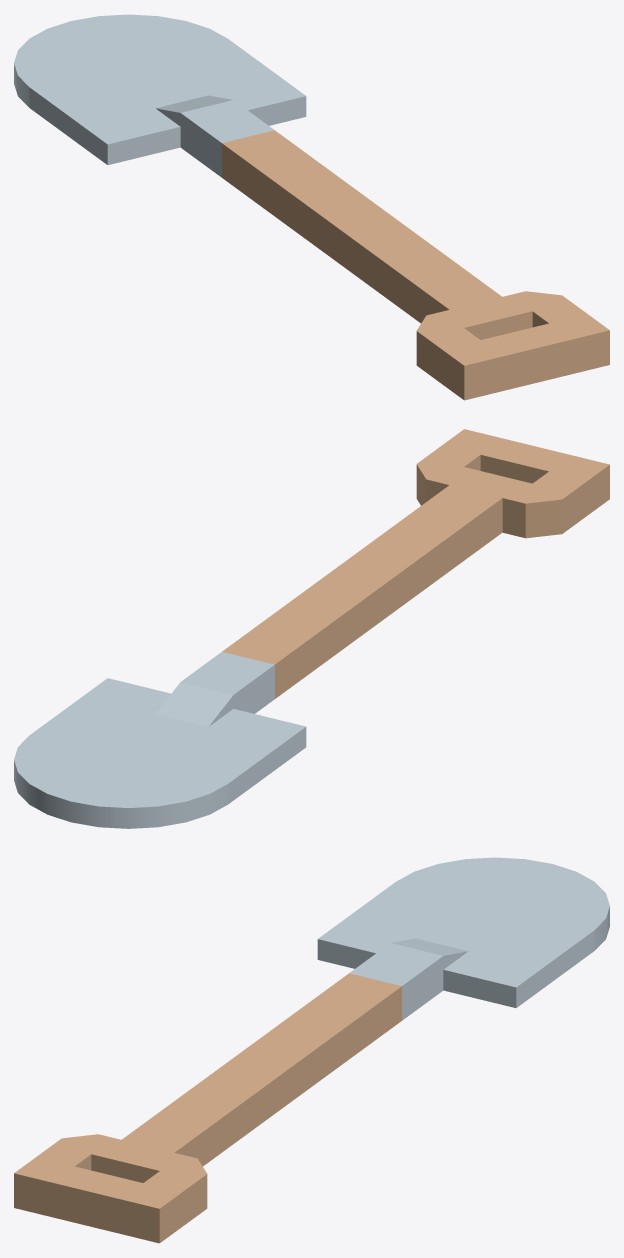
File: shovel.gltf
The picture shows the model from 3 angles, top to bottom: view 1: azimuth 30°, elevation 25°; view 2: azimuth 150°, elevation 25°; view 3: azimuth 330°, elevation 25°; orthographic projection.
Parts seen in each view (by area): view 1: shovel; view 2: shovel; view 3: shovel.
Boxes of the visible parts, left/top/right/bottom form: shovel: left=14, top=14, right=609, bottom=400; shovel: left=14, top=429, right=609, bottom=828; shovel: left=14, top=857, right=609, bottom=1243.
Bounding box in the file's own units: 0.2208 × 0.0368 × 0.897.
